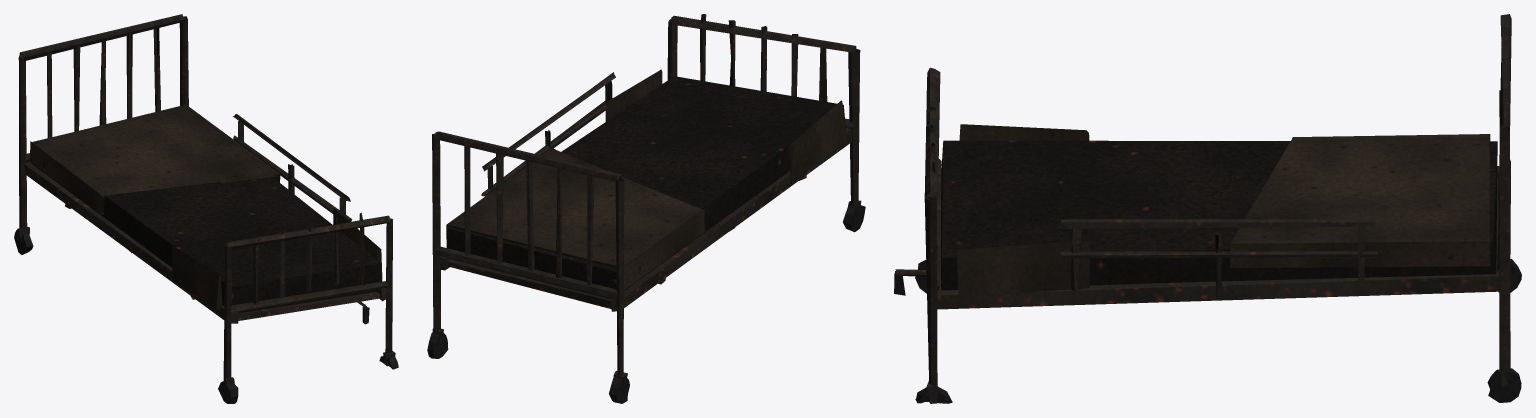
Rendered from Bed_Hospital_Burned.fbx.
3 renders of one model, left to right at view 1: azimuth 30°, elevation 25°; view 2: azimuth 150°, elevation 25°; view 3: azimuth 270°, elevation 25°, orthographic. The views are drawn at different scales.
Visible parts, largest first — view 1: кровать 313; view 2: кровать 313; view 3: кровать 313.
Boxes of the visible parts, x1=… form: кровать 313: x1=14, y1=14, x2=398, y2=403; кровать 313: x1=427, y1=14, x2=865, y2=403; кровать 313: x1=894, y1=14, x2=1521, y2=403.
Size of the model in its own units: 0.9842 by 1.07 by 2.2.
Materials: 1 (1 with a texture image).
